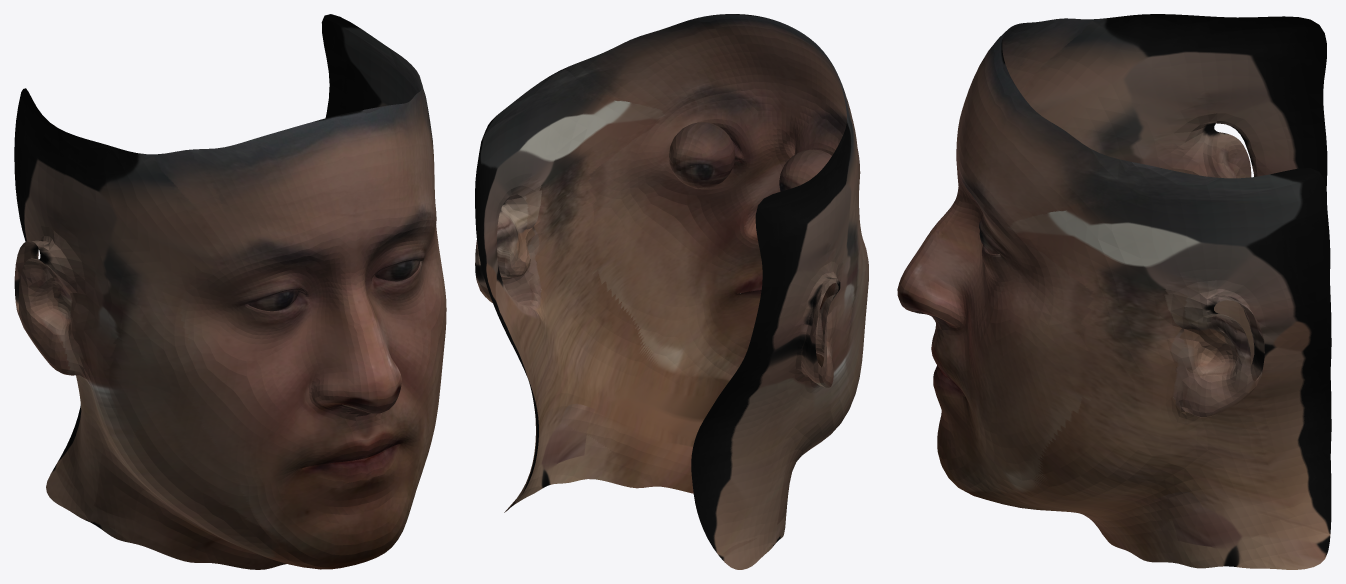
File: baseline.glb
The picture shows the model from 3 angles, left to right: view 1: azimuth 30°, elevation 25°; view 2: azimuth 150°, elevation 25°; view 3: azimuth 270°, elevation 25°; orthographic projection. The views are drawn at different scales.
Parts seen in each view (by area): view 1: geometry_0; view 2: geometry_0; view 3: geometry_0.
Part boxes in pixels (x1,y1,x2,y2): geometry_0: (14,14,446,569); geometry_0: (475,14,868,569); geometry_0: (897,14,1331,569).
Bounding box in the file's own units: 0.1711 × 0.2108 × 0.1704.
Materials: 1 (1 with a texture image).
